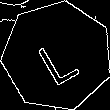L_NW: (31, 26, 83, 86)
